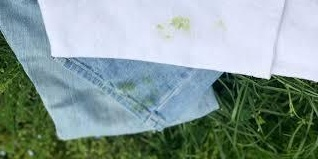earth: (158, 16, 190, 32), (134, 95, 155, 111), (116, 79, 134, 92)
